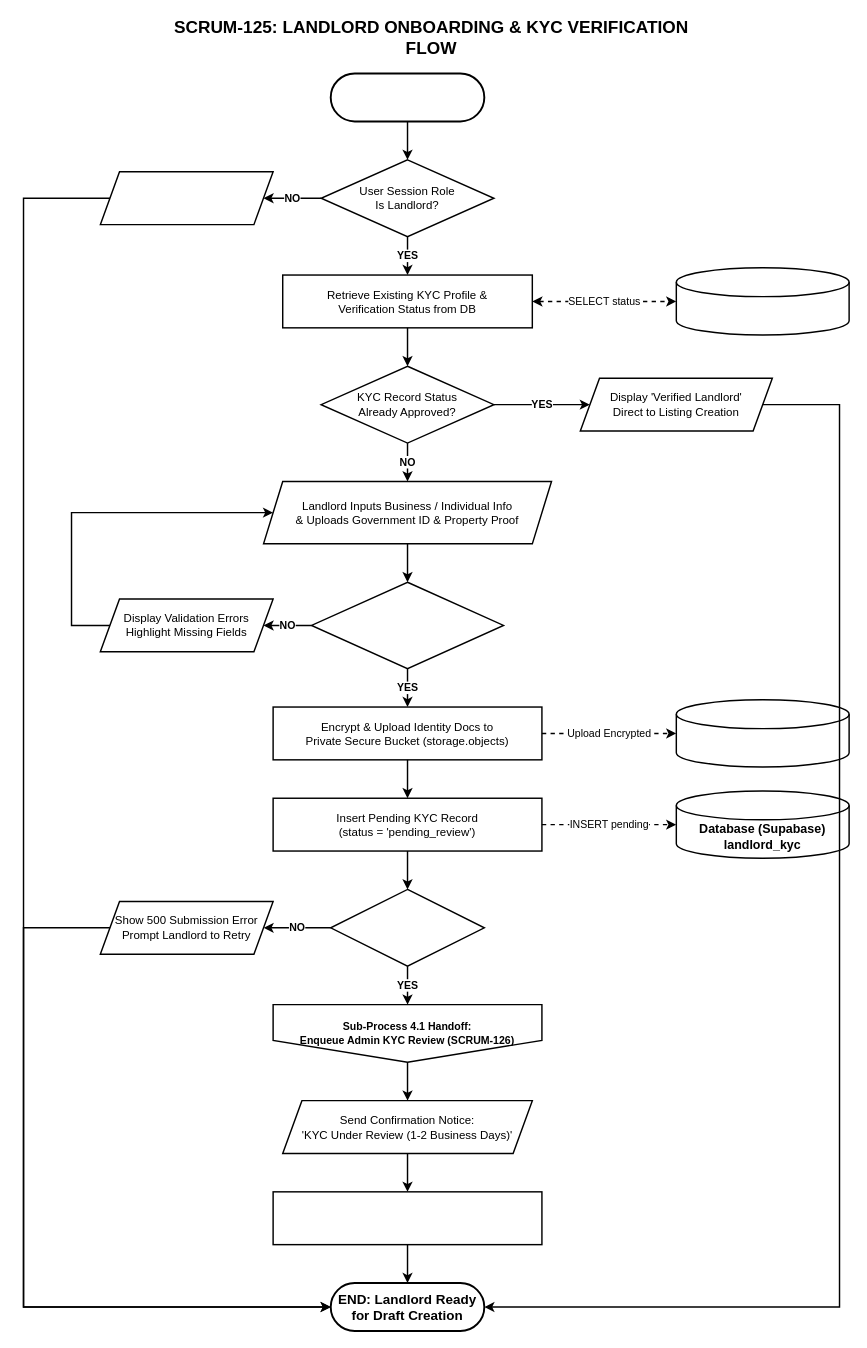
Image size: 867x1348. Some labels were removed from this diagram. The shapes that lost their labels are listed below. From the top down, each one's centre as x and y in pixels, then its label:
At (x=407, y=97): "START: Authenticated Landlord Profile Setup".
At (x=186, y=198): "Redirect to Role Selection Upgrade / Switch to Landlord".
At (x=762, y=301): "Database (Supabase) landlord_kyc / profiles".
At (x=407, y=625): "Payload Complete & Formats Valid (MIME/Size)?".
At (x=762, y=733): "Private Storage Bucket kyc-documents (RLS)".
At (x=407, y=927): "Database Insertion Successful?".
At (x=407, y=1218): "Grant Draft Listing Permissions (Lock Public Publishing Until Verified)".
